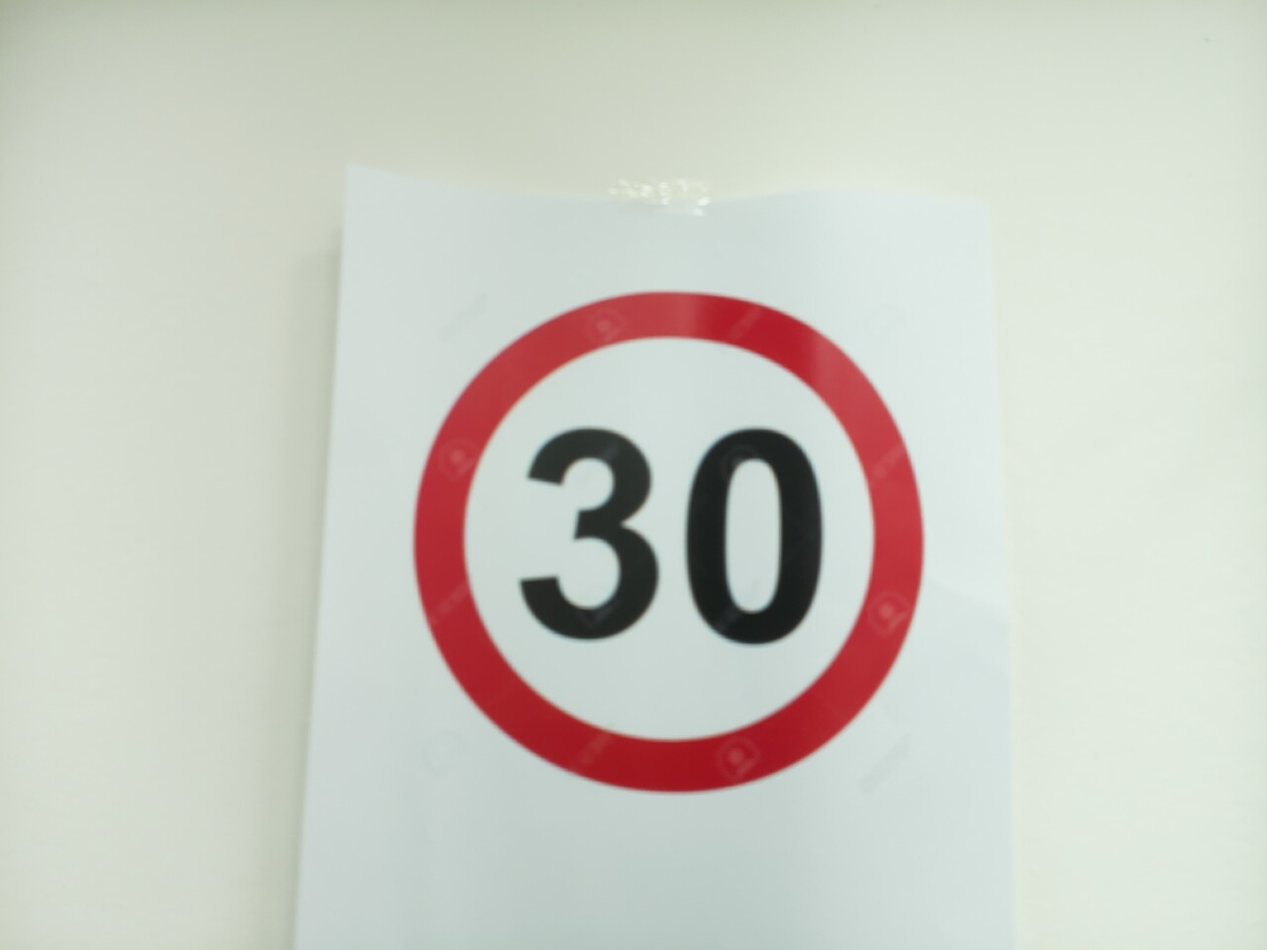speed_30: (399, 278, 937, 807)
